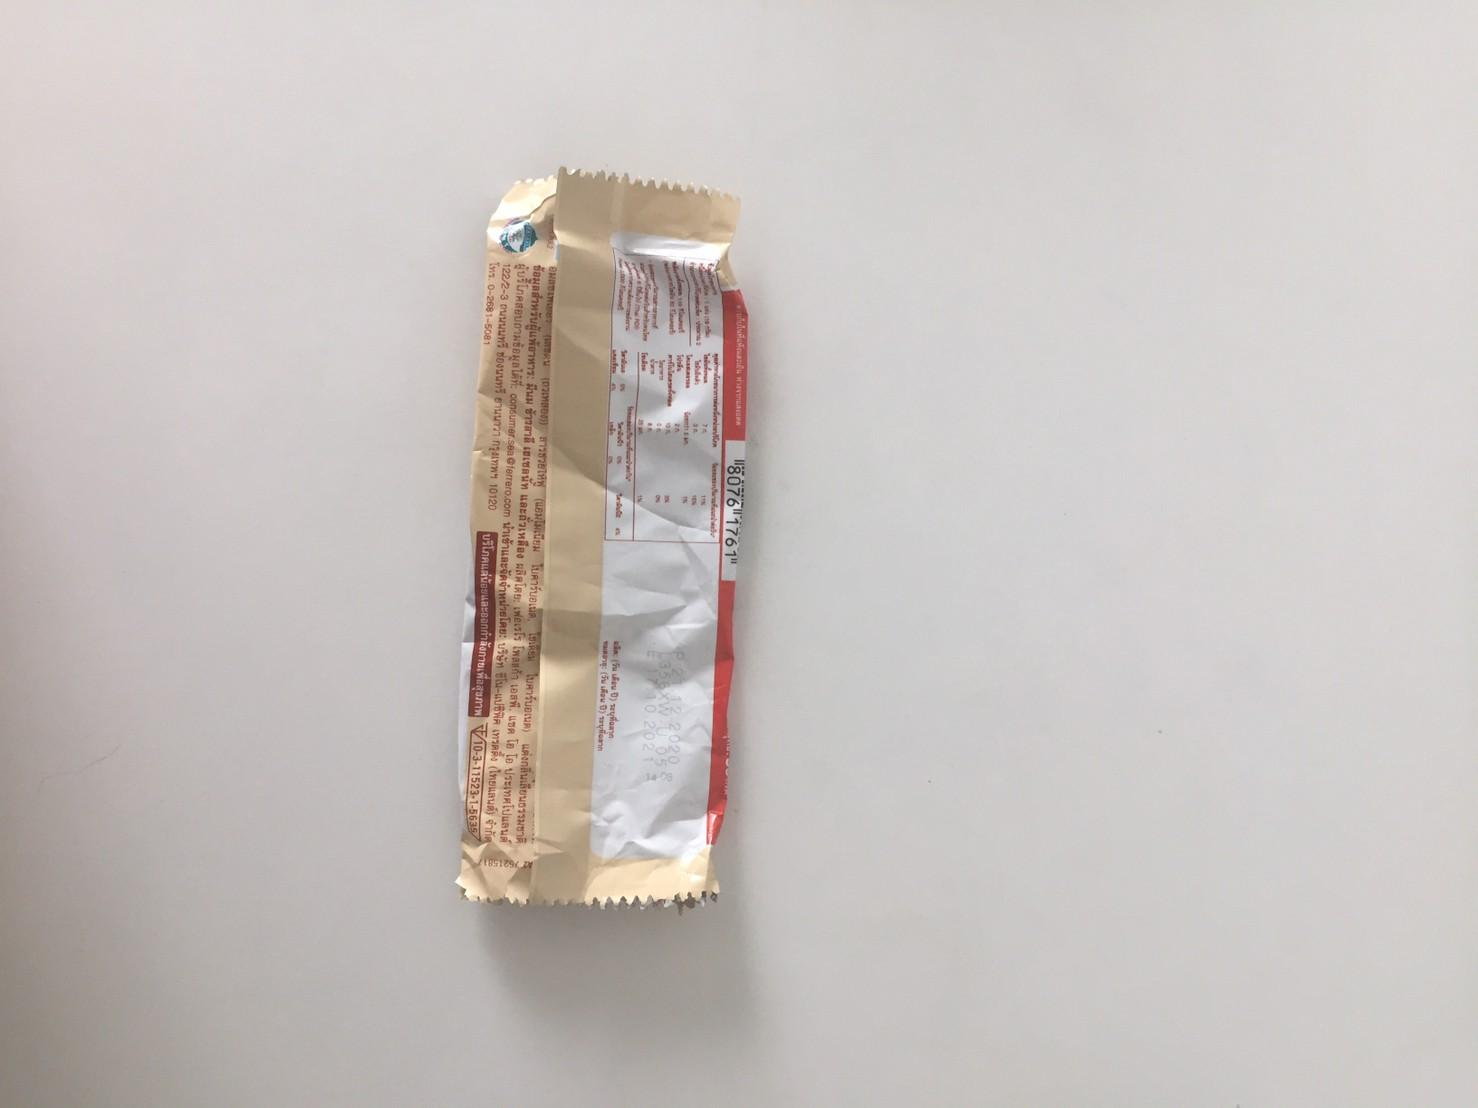plastic: (445, 166, 755, 928)
